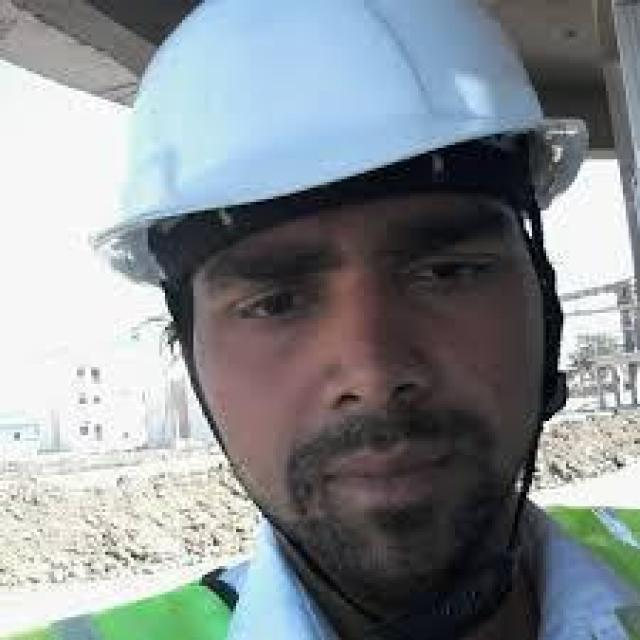helmet: (85, 0, 589, 273)
